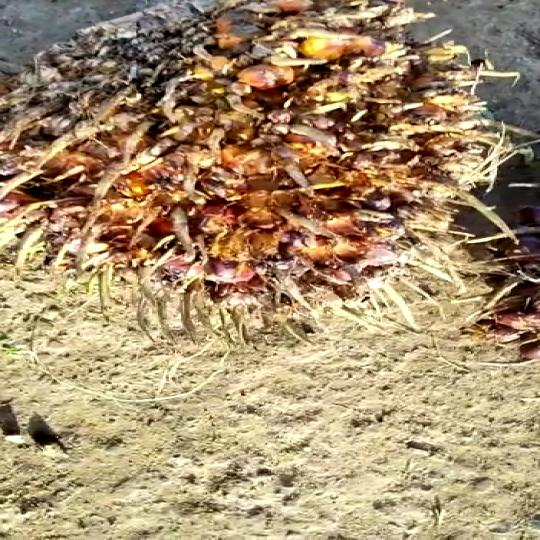terlalu masak: (0, 0, 540, 334)
